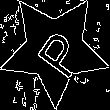P_NW: (25, 20, 85, 79)
